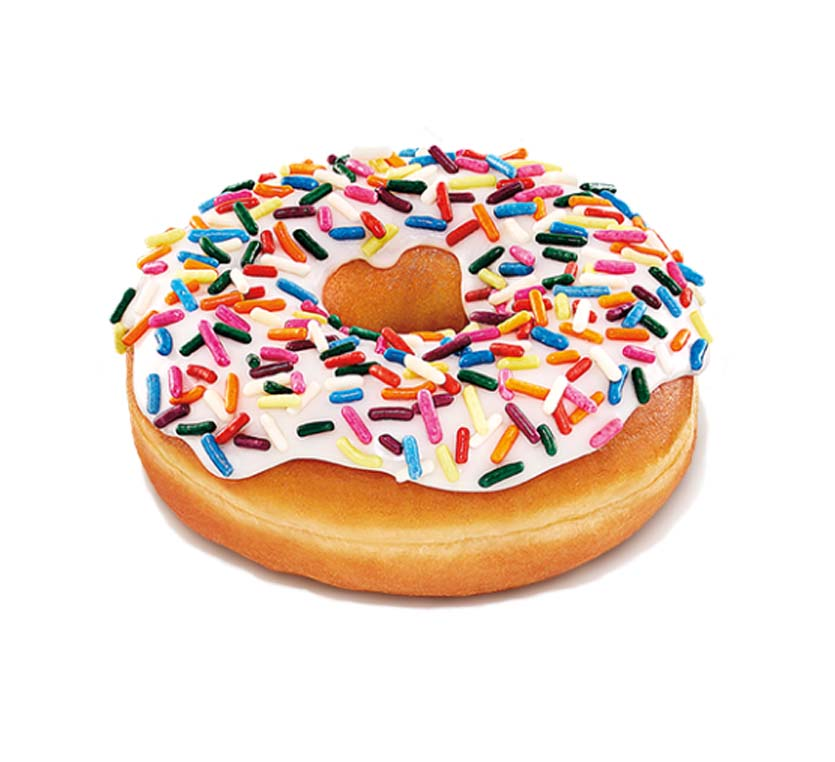donut: (90, 108, 736, 616)
